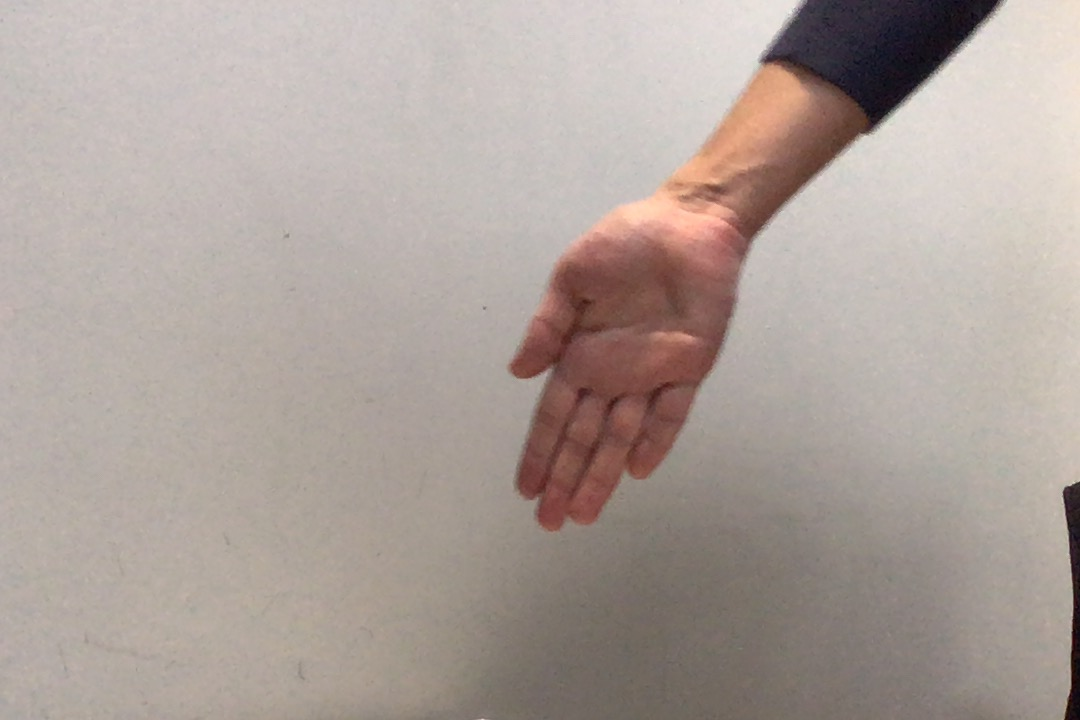palmhand: (501, 205, 744, 539)
